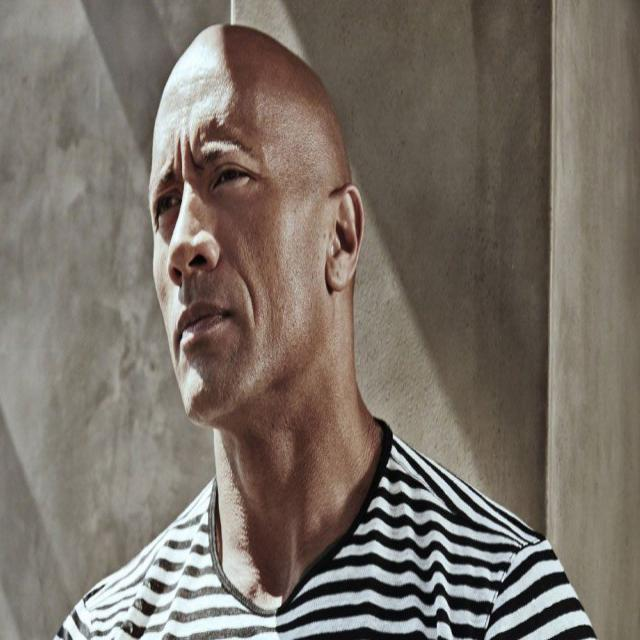bald: (128, 25, 364, 208)
